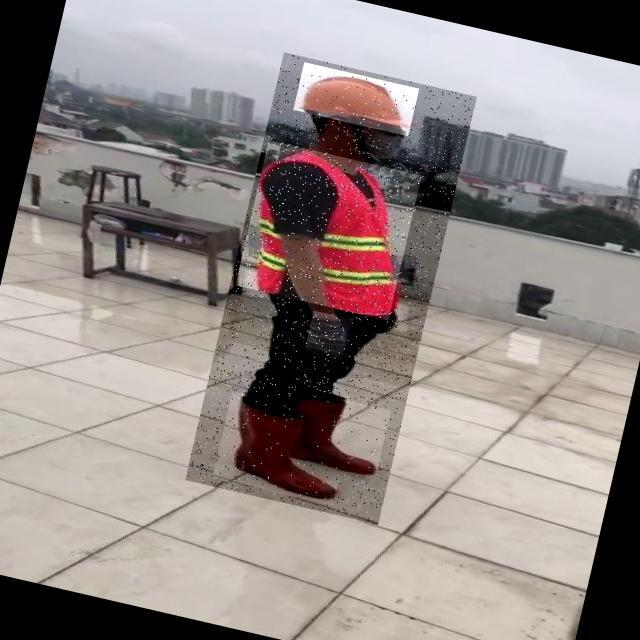Gloves: (304, 312, 351, 360)
Helmet: (293, 63, 419, 136)
Human: (184, 53, 476, 526)
Safety Boot: (212, 393, 353, 507), (280, 389, 391, 478)
Safety Vest: (236, 141, 423, 321)
